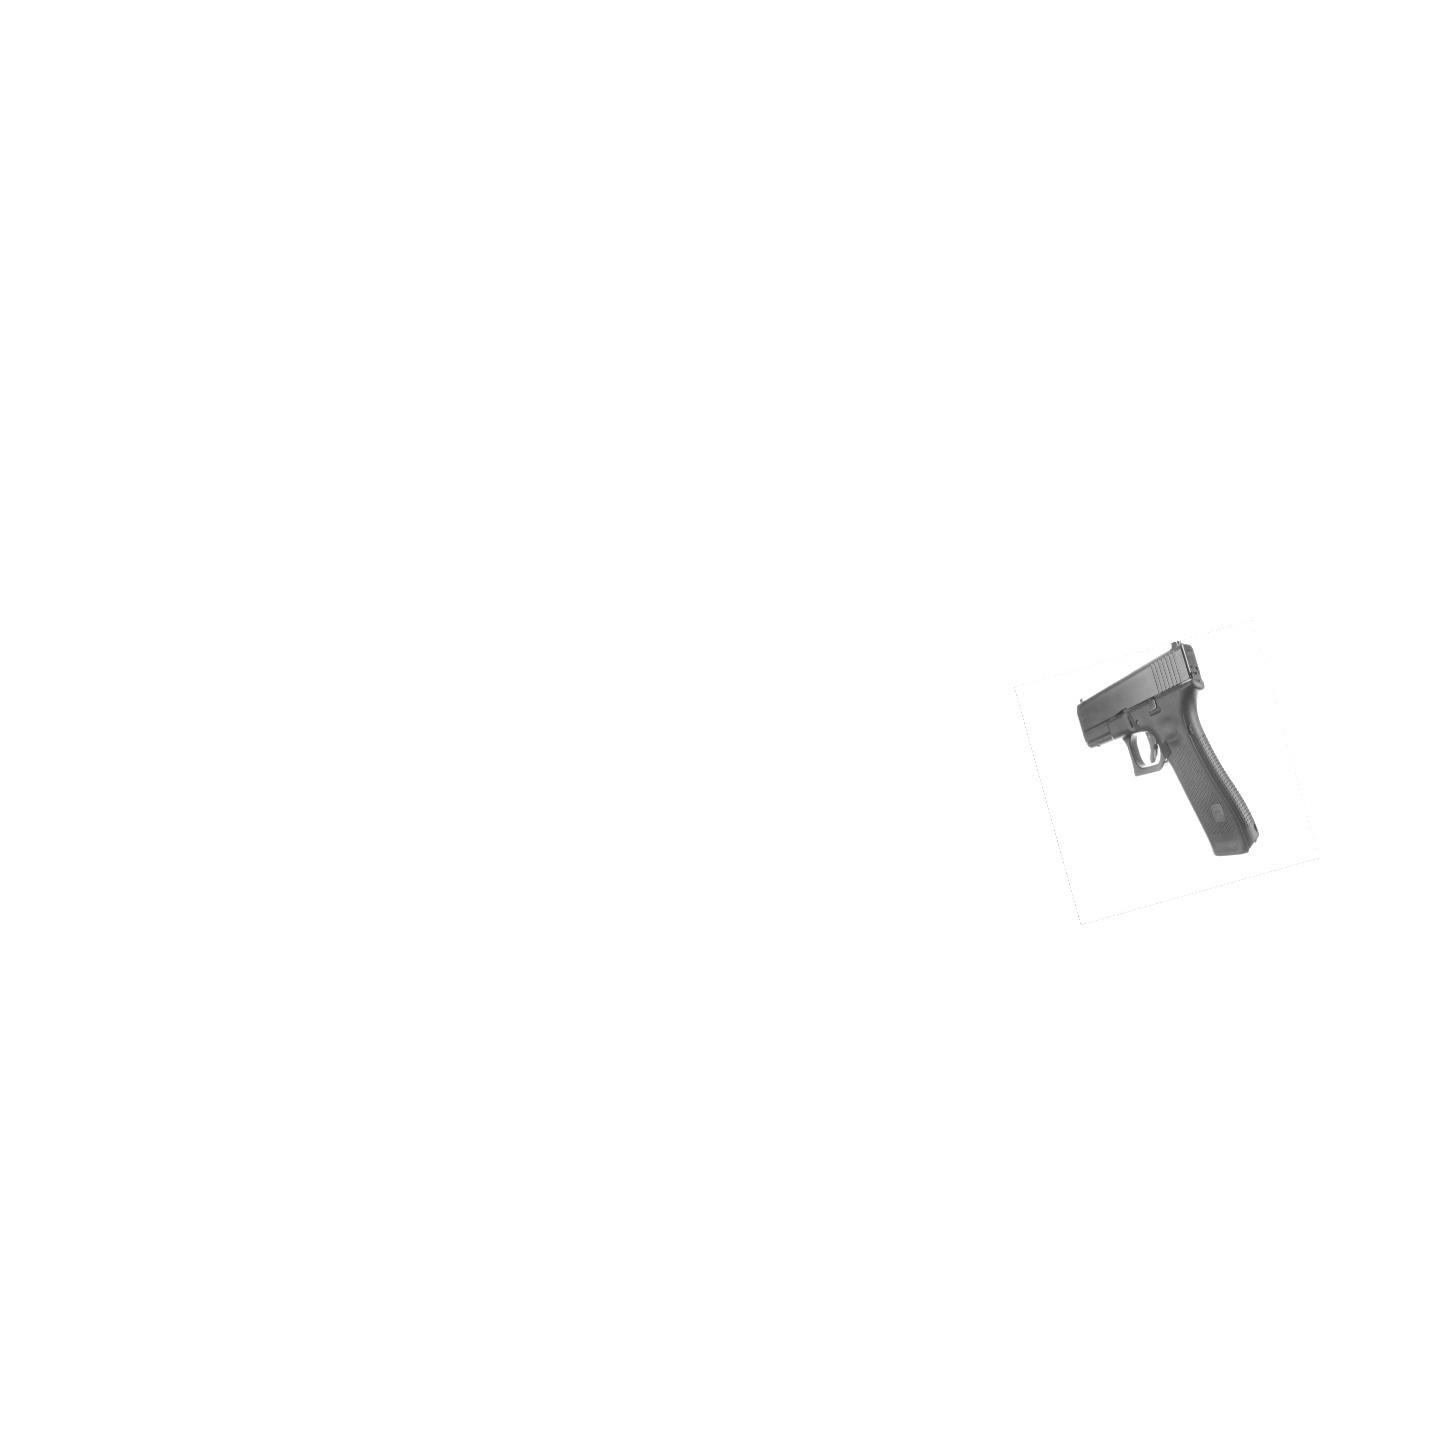gun: (1075, 633, 1272, 863)
